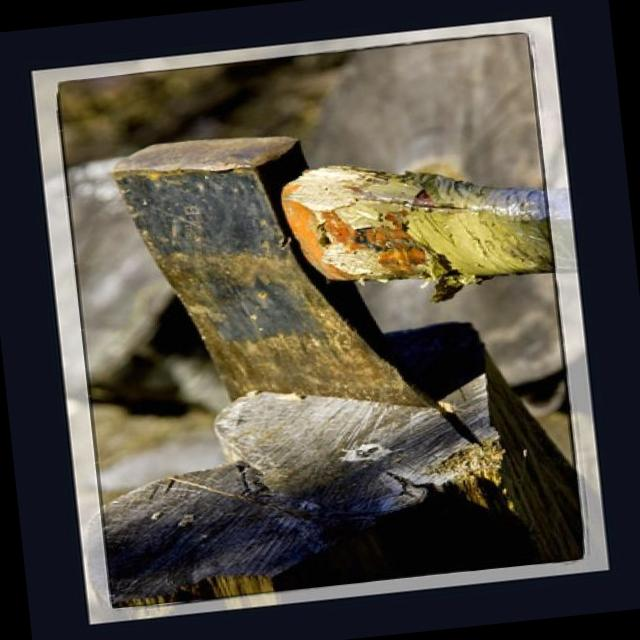Axe: (113, 135, 555, 406)
